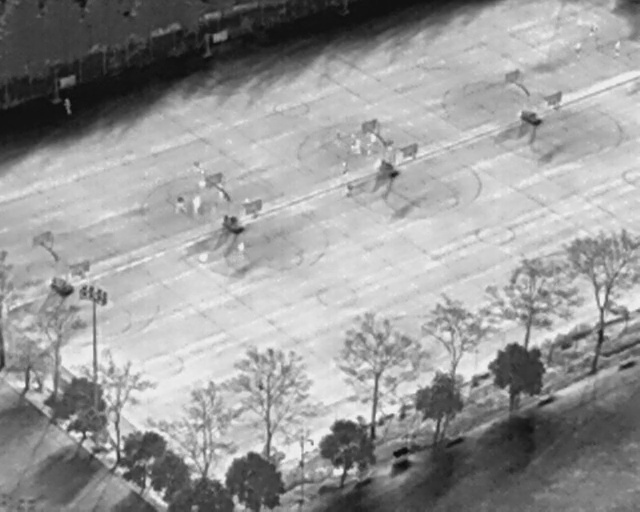Person: (187, 194, 203, 216), (172, 194, 188, 216), (61, 96, 75, 117), (196, 169, 208, 188), (333, 129, 344, 149), (612, 38, 623, 57), (350, 139, 362, 155), (368, 127, 380, 143), (216, 180, 226, 198), (573, 41, 583, 58), (348, 134, 358, 151), (589, 23, 600, 36), (236, 242, 245, 255)
